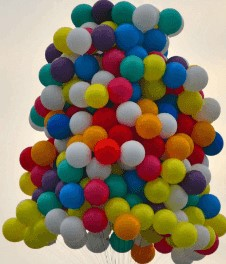Balloon: (133, 3, 159, 30), (59, 182, 85, 208), (114, 212, 140, 238), (136, 112, 161, 139), (66, 28, 91, 55), (94, 138, 121, 163), (153, 209, 178, 235), (65, 143, 90, 168), (40, 85, 65, 110), (108, 77, 132, 103), (120, 55, 144, 81), (114, 24, 138, 50), (84, 180, 110, 204), (60, 216, 84, 242), (178, 89, 202, 114), (164, 135, 189, 159), (121, 140, 145, 165), (50, 57, 74, 82), (16, 199, 40, 224), (192, 120, 215, 146), (161, 157, 184, 183), (172, 224, 198, 247), (144, 179, 169, 202), (144, 54, 165, 81), (163, 62, 186, 86), (31, 142, 55, 165), (47, 114, 71, 137), (84, 208, 107, 232), (159, 8, 181, 33), (84, 84, 107, 107), (183, 170, 205, 194), (138, 156, 160, 180), (186, 65, 208, 89), (105, 197, 129, 219), (3, 218, 25, 242), (44, 208, 65, 233), (91, 26, 114, 48), (74, 55, 97, 77), (117, 102, 139, 125), (143, 29, 165, 51), (111, 1, 134, 22), (200, 98, 220, 122), (200, 195, 221, 217), (86, 233, 109, 253), (131, 244, 155, 263), (91, 1, 111, 22), (71, 4, 92, 24), (38, 191, 57, 212)
